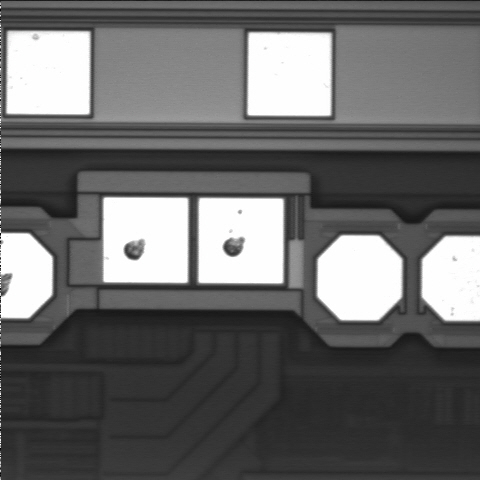pad: (103, 197, 188, 283), (317, 235, 402, 320), (199, 198, 283, 283), (7, 31, 90, 114), (248, 33, 331, 116)
